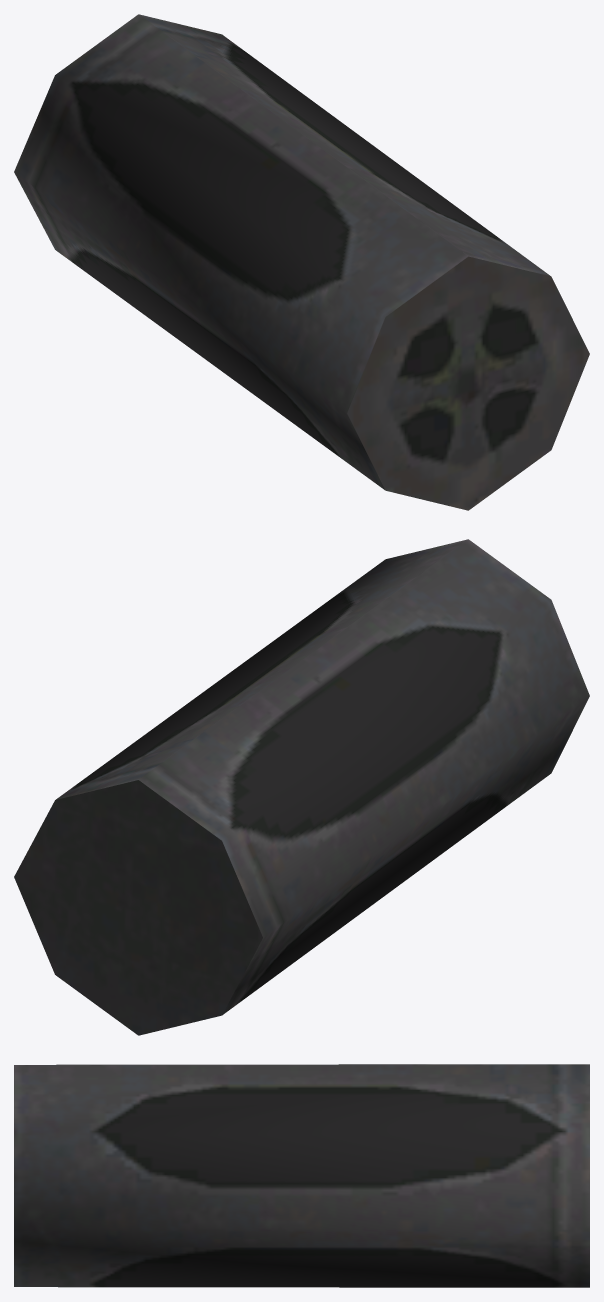
The model's file is Pickup_WeaponZj13.glb.
The picture shows the model from 3 angles, top to bottom: view 1: azimuth 30°, elevation 25°; view 2: azimuth 150°, elevation 25°; view 3: azimuth 270°, elevation 25°; orthographic projection. The views are drawn at different scales.
Parts seen in each view (by area): view 1: pk_weapon_zj13; view 2: pk_weapon_zj13; view 3: pk_weapon_zj13.
Boxes of the visible parts, x1=… form: pk_weapon_zj13: x1=14, y1=14, x2=589, y2=510; pk_weapon_zj13: x1=14, y1=539, x2=589, y2=1035; pk_weapon_zj13: x1=14, y1=1064, x2=589, y2=1287.
Bounding box in the file's own units: 0.1294 × 0.127 × 0.2969.
Materials: 1 (1 with a texture image).
